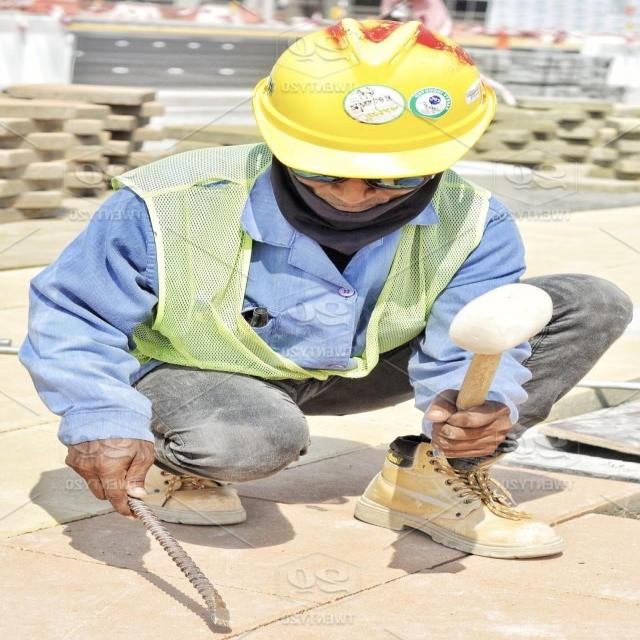Reflective-Jacket: (116, 173, 497, 376)
Safety-Helmet: (246, 20, 501, 176)
